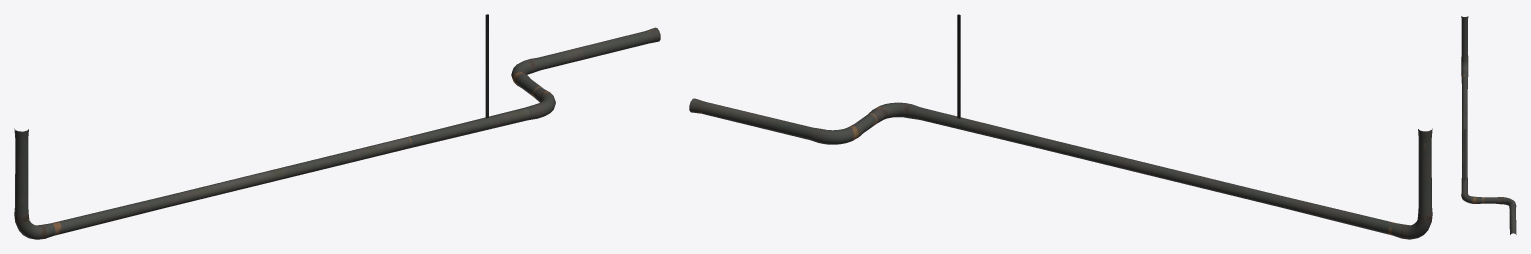
3 views of the same model, side by side, from view 1: azimuth 30°, elevation 25°; view 2: azimuth 150°, elevation 25°; view 3: azimuth 270°, elevation 25° (orthographic). The views are drawn at different scales.
Visible parts, largest first — view 1: body0_model0_lod0_mesh0; view 2: body0_model0_lod0_mesh0; view 3: body0_model0_lod0_mesh0.
Boxes of the visible parts, x1=… form: body0_model0_lod0_mesh0: x1=14, y1=14, x2=660, y2=239; body0_model0_lod0_mesh0: x1=689, y1=14, x2=1432, y2=239; body0_model0_lod0_mesh0: x1=1461, y1=16, x2=1516, y2=234.
Size of the model in its own units: 136 by 21.62 by 18.95.
1 material, 1 textured.
